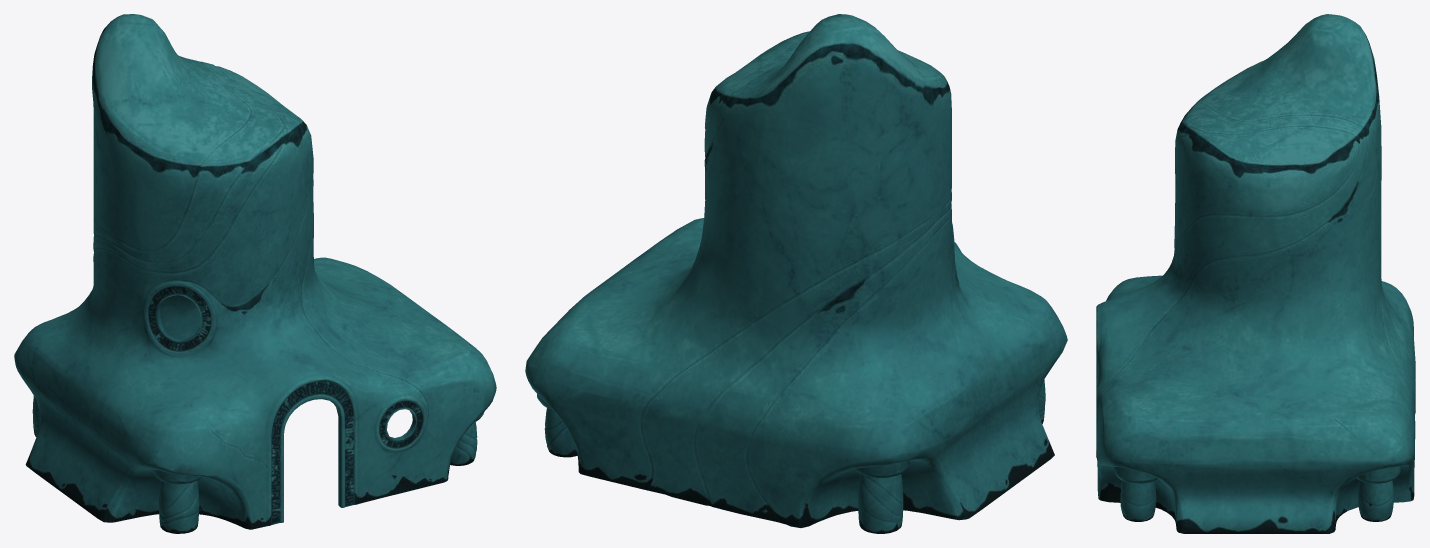
The model's file is sky_hut_c_soma.glb.
3 renders of one model, left to right at view 1: azimuth 30°, elevation 25°; view 2: azimuth 150°, elevation 25°; view 3: azimuth 270°, elevation 25°, orthographic. The views are drawn at different scales.
Parts seen in each view (by area): view 1: hut_c; view 2: hut_c; view 3: hut_c.
Part boxes in pixels (x1,y1,x2,y2): hut_c: (14, 14, 496, 533); hut_c: (525, 14, 1067, 533); hut_c: (1096, 14, 1415, 533).
Size of the model in its own units: 8.12 by 8.68 by 6.37.
1 material, 1 textured.
